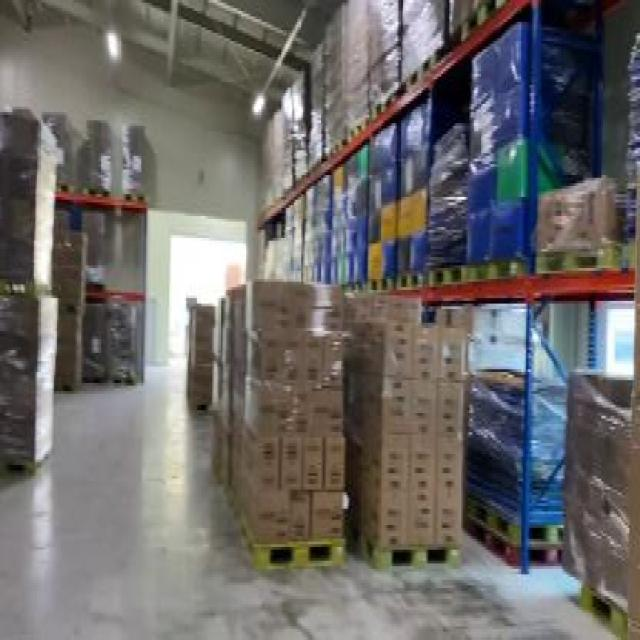box: (185, 279, 352, 566), (426, 41, 589, 274), (342, 288, 468, 574), (463, 358, 575, 574), (1, 107, 62, 487), (557, 361, 638, 637), (368, 117, 432, 270), (537, 170, 626, 270), (45, 221, 86, 394), (306, 14, 348, 161), (342, 3, 402, 93), (260, 77, 305, 197), (182, 301, 228, 418), (328, 167, 372, 273), (82, 301, 138, 380), (302, 172, 331, 279), (80, 115, 118, 194), (43, 110, 77, 192), (280, 194, 308, 290), (120, 118, 148, 202)
